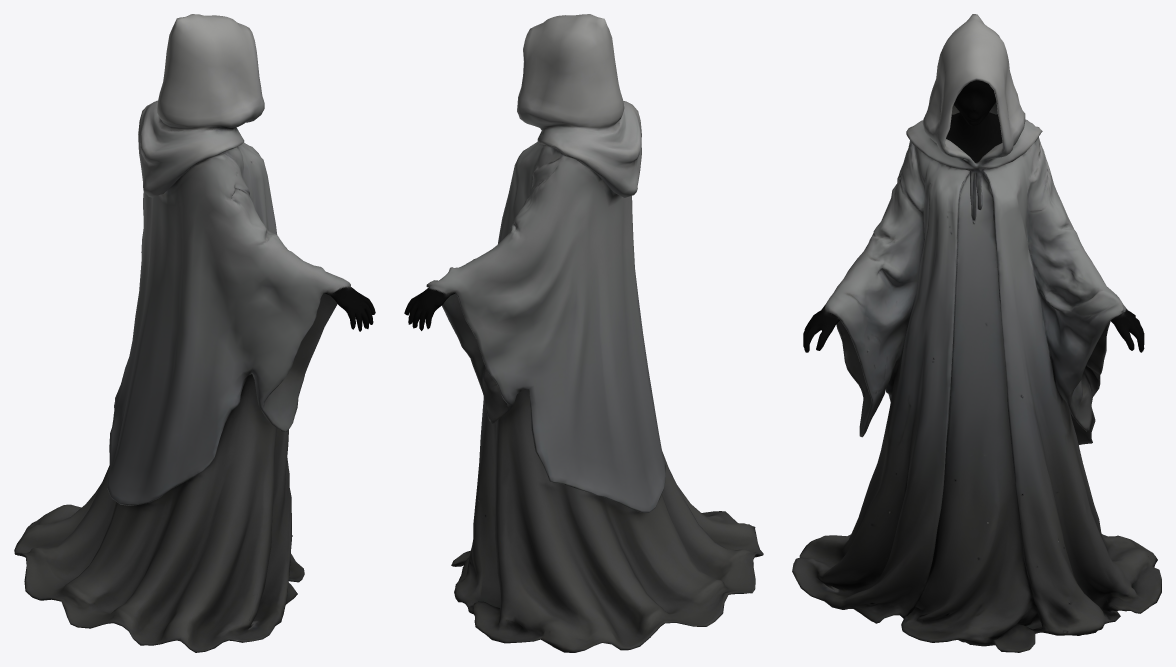
The picture shows the model from 3 angles, left to right: view 1: azimuth 30°, elevation 25°; view 2: azimuth 150°, elevation 25°; view 3: azimuth 270°, elevation 25°; orthographic projection. The views are drawn at different scales.
Parts seen in each view (by area): view 1: tripo_node_c879ec40-2366-4627-993b-0d9c37c47e00; view 2: tripo_node_c879ec40-2366-4627-993b-0d9c37c47e00; view 3: tripo_node_c879ec40-2366-4627-993b-0d9c37c47e00.
Part boxes in pixels (box(x1,y1,x2,y2)): tripo_node_c879ec40-2366-4627-993b-0d9c37c47e00: box(14, 14, 375, 652); tripo_node_c879ec40-2366-4627-993b-0d9c37c47e00: box(404, 14, 763, 652); tripo_node_c879ec40-2366-4627-993b-0d9c37c47e00: box(792, 14, 1161, 652).
Bounding box in the file's own units: 0.4775 × 1 × 0.5773.
Materials: 1 (1 with a texture image).
